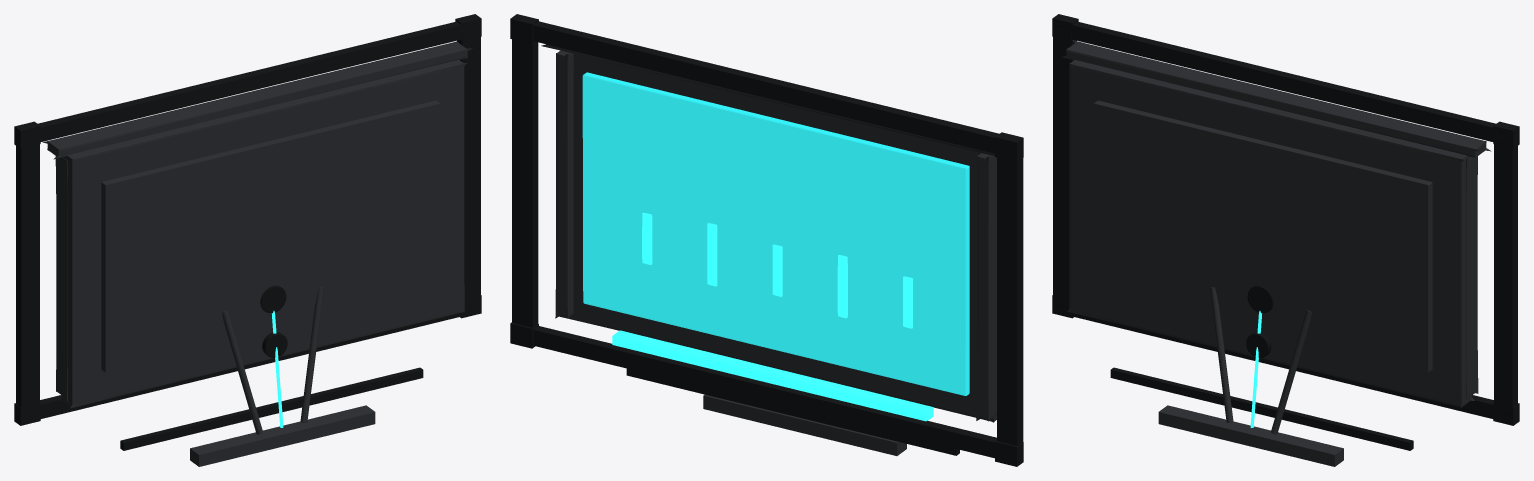
The model's file is upper_monitor_3.glb.
3 renders of one model, left to right at view 1: azimuth 30°, elevation 25°; view 2: azimuth 150°, elevation 25°; view 3: azimuth 330°, elevation 25°, orthographic. The views are drawn at different scales.
Visible parts, largest first — view 1: arda_layered_rear_backplate, upper_monitor_3_rear_bezel, arda_armor_top_beveled_graphite, upper_monitor_3_top_trim, arda_armor_left_side_module, arda_armor_right_side_module, arda_low_profile_mount_foot, arda_under_screen_mount_rail, upper_monitor_3_left_side_bezel, arda_armor_bottom_beveled_graphite, arda_right_articulated_support_arm, arda_left_articulated_support_arm (+2 smaller); view 2: upper_monitor_3_screen_plane, upper_monitor_3_rear_bezel, arda_armor_top_beveled_graphite, arda_armor_bottom_beveled_graphite, arda_armor_left_side_module, arda_armor_right_side_module, upper_monitor_3_bottom_cyan_trace, upper_monitor_3_left_side_bezel, upper_monitor_3_right_side_bezel, arda_low_profile_mount_foot, arda_under_screen_mount_rail, upper_monitor_3_top_trim (+8 smaller); view 3: arda_layered_rear_backplate, upper_monitor_3_rear_bezel, arda_armor_top_beveled_graphite, upper_monitor_3_top_trim, arda_armor_right_side_module, arda_armor_left_side_module, arda_low_profile_mount_foot, arda_under_screen_mount_rail, upper_monitor_3_right_side_bezel, arda_armor_bottom_beveled_graphite, arda_left_articulated_support_arm, arda_right_articulated_support_arm (+2 smaller).
Boxes of the visible parts, x1,y1,x2,y2 form: arda_layered_rear_backplate: [101, 100, 440, 372]; upper_monitor_3_rear_bezel: [61, 60, 467, 408]; arda_armor_top_beveled_graphite: [38, 21, 461, 141]; upper_monitor_3_top_trim: [42, 41, 472, 159]; arda_armor_left_side_module: [16, 135, 39, 416]; arda_armor_right_side_module: [457, 27, 480, 308]; arda_low_profile_mount_foot: [190, 405, 375, 466]; arda_under_screen_mount_rail: [120, 367, 423, 450]; upper_monitor_3_left_side_bezel: [55, 156, 67, 401]; arda_armor_bottom_beveled_graphite: [40, 313, 461, 418]; arda_right_articulated_support_arm: [300, 287, 324, 422]; arda_left_articulated_support_arm: [222, 310, 262, 434]; upper_monitor_3_screen_plane: [582, 72, 969, 395]; upper_monitor_3_rear_bezel: [559, 54, 996, 422]; arda_armor_top_beveled_graphite: [533, 21, 999, 153]; arda_armor_bottom_beveled_graphite: [533, 326, 996, 458]; arda_armor_left_side_module: [997, 157, 1023, 445]; arda_armor_right_side_module: [512, 39, 538, 327]; upper_monitor_3_bottom_cyan_trace: [612, 330, 933, 421]; upper_monitor_3_left_side_bezel: [976, 153, 996, 421]; upper_monitor_3_right_side_bezel: [555, 50, 573, 318]; arda_low_profile_mount_foot: [703, 394, 906, 455]; arda_under_screen_mount_rail: [626, 368, 959, 455]; upper_monitor_3_top_trim: [541, 44, 994, 156]; arda_layered_rear_backplate: [1093, 100, 1432, 372]; upper_monitor_3_rear_bezel: [1067, 60, 1474, 407]; arda_armor_top_beveled_graphite: [1072, 21, 1495, 141]; upper_monitor_3_top_trim: [1061, 40, 1491, 157]; arda_armor_right_side_module: [1494, 135, 1517, 416]; arda_armor_left_side_module: [1053, 27, 1076, 308]; arda_low_profile_mount_foot: [1158, 405, 1343, 466]; arda_under_screen_mount_rail: [1110, 367, 1413, 450]; upper_monitor_3_right_side_bezel: [1466, 156, 1478, 399]; arda_armor_bottom_beveled_graphite: [1072, 313, 1493, 418]; arda_left_articulated_support_arm: [1209, 287, 1233, 422]; arda_right_articulated_support_arm: [1271, 310, 1311, 434].
Size of the model in its own units: 1.9 by 1.36 by 0.3027.
